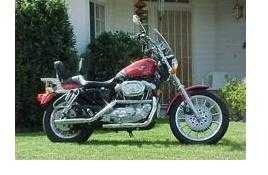motorcycle: (37, 28, 230, 146)
